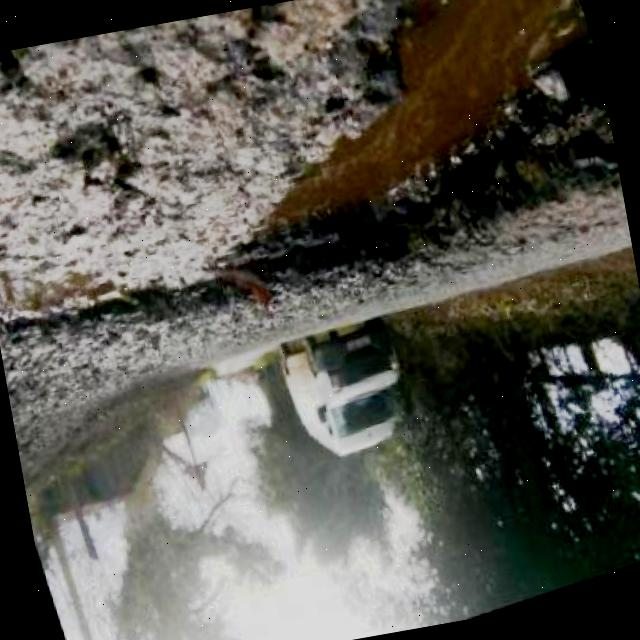pothole: (0, 0, 630, 348)
